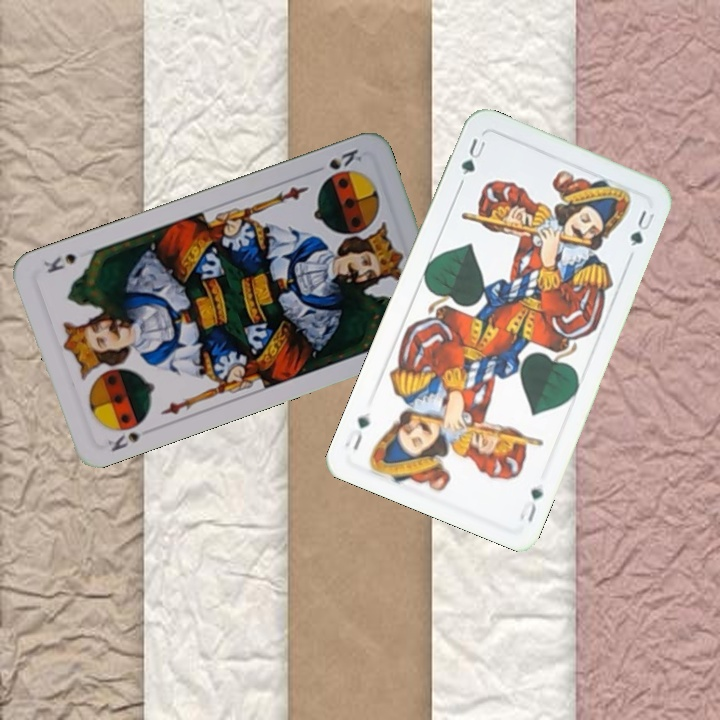GU: (515, 479, 547, 525), (457, 134, 489, 178)
SK: (103, 415, 149, 455), (324, 145, 365, 173)
